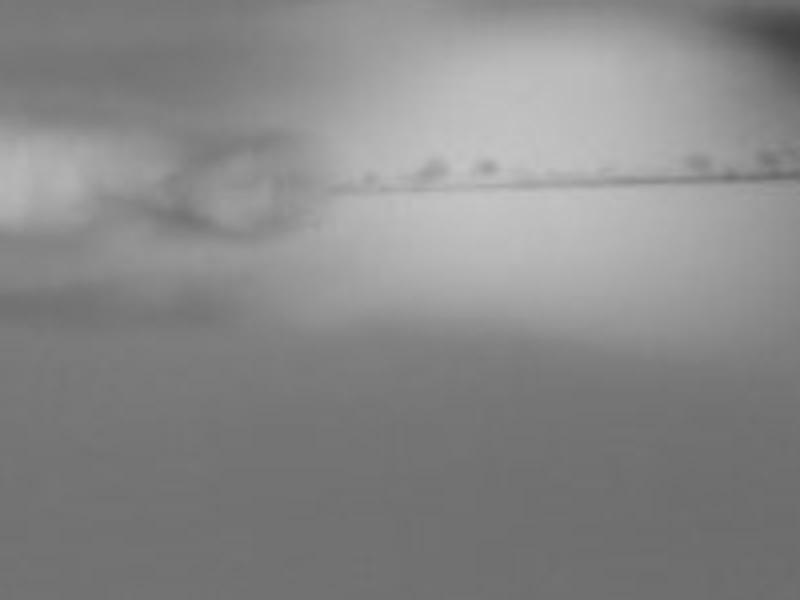defect: (411, 156, 451, 185), (681, 148, 715, 176), (470, 155, 504, 181), (757, 146, 787, 173), (354, 169, 377, 186), (722, 166, 738, 182)
